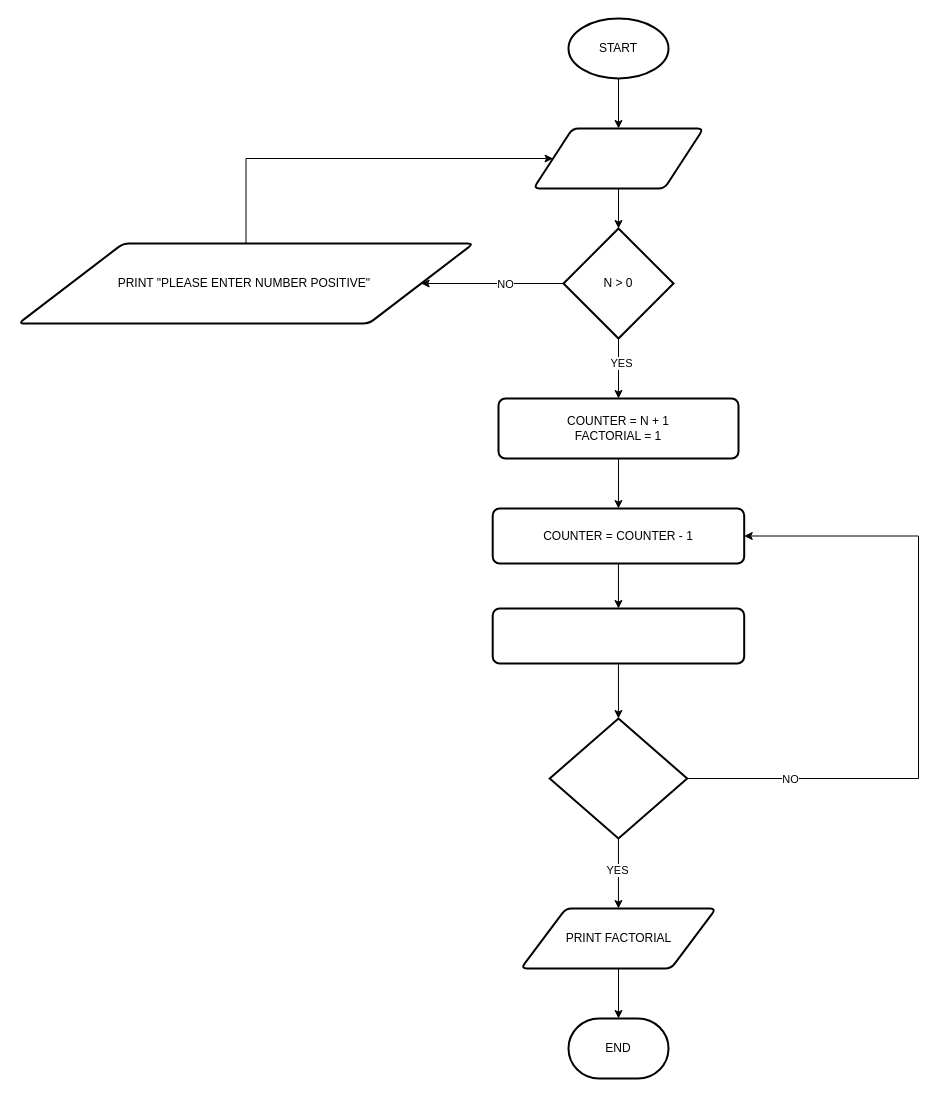
This 944x1096 diagram has some shape labels left out. The centre of each missing label's shape, as x and y in pixels:
COUNTER = 1: point (618, 778)
FACTORIAL = FACTORIAL * COUNTER: point (618, 635)
READ N: point (618, 158)
